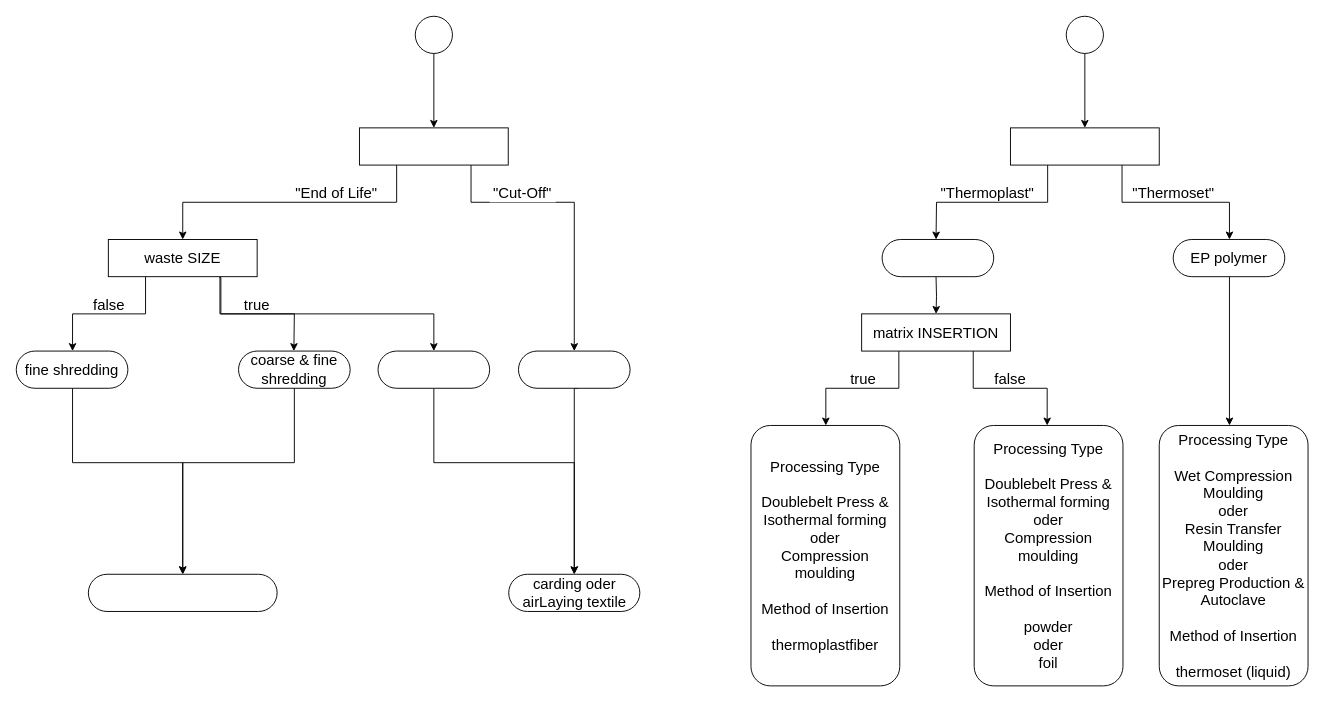
Some shapes in this 1324 by 702 pixel diagram are drawn without their labels. Here are the shapes that lost their labels. From the top down, the centre of each, then its label:
At point (433, 146): "waste TYPE".
At point (1084, 146): "matrix TYPE".
At point (937, 258): "PP oder PA6 polymer".
At point (433, 369): "coarse shredding".
At point (574, 369): "cutting shredding".
At point (182, 592): "carding, wetLaying oder airLaying textile".
